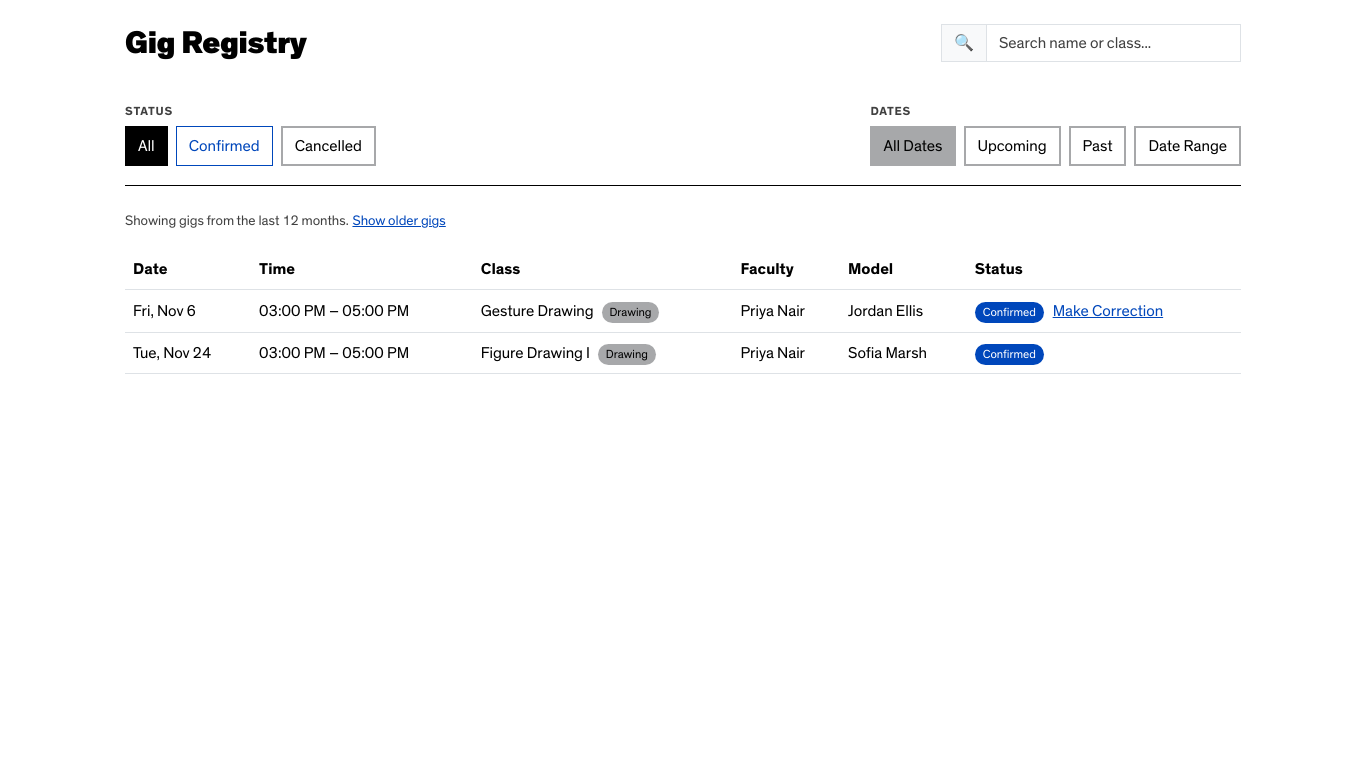
Test case: AllGigs (Gig Registry) › correcting a past gig › reloads the registry after a correction is saved
Click the button with aria-label "Make Correction for Jordan Ellis on " at (1108, 311), box [1052, 298, 1164, 324]
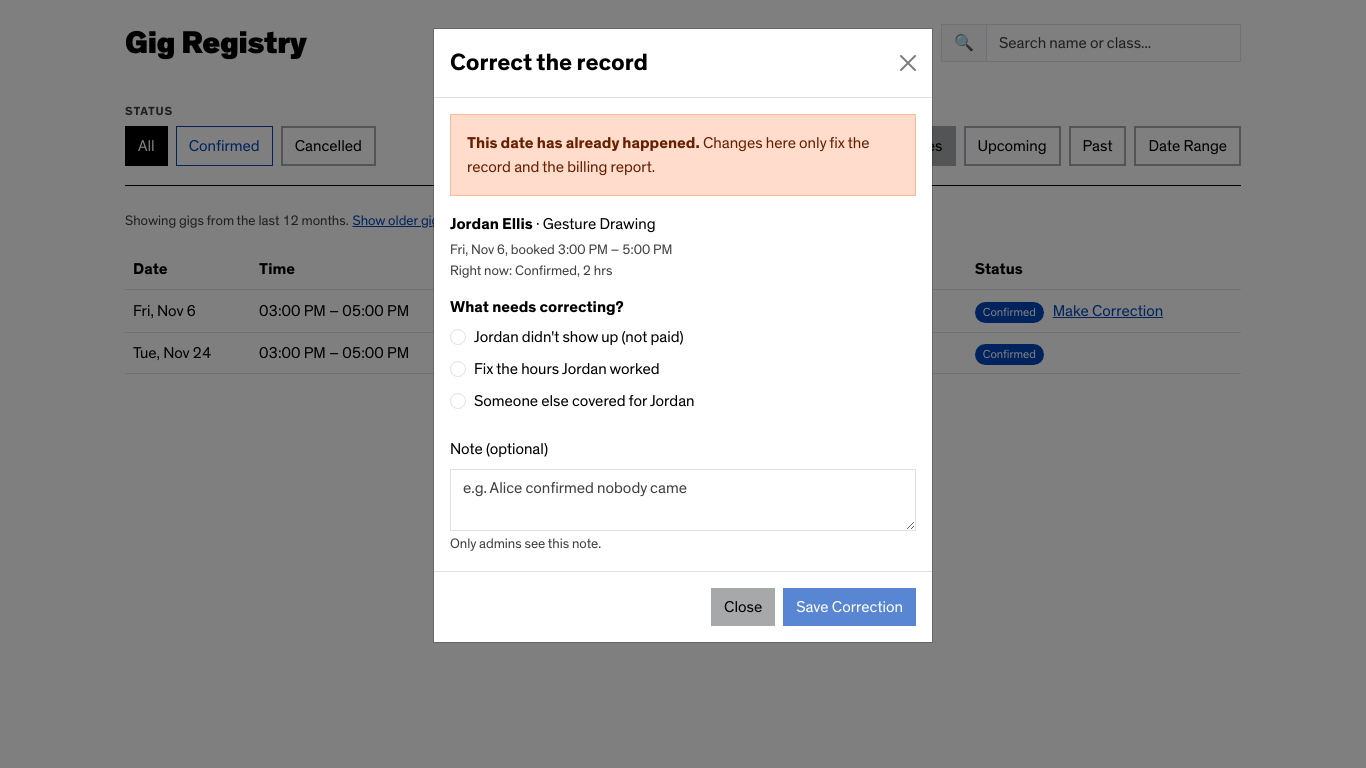
Click the radio button labelled "Jordan didn't show up (not paid)" at (458, 337), box [450, 329, 466, 345]
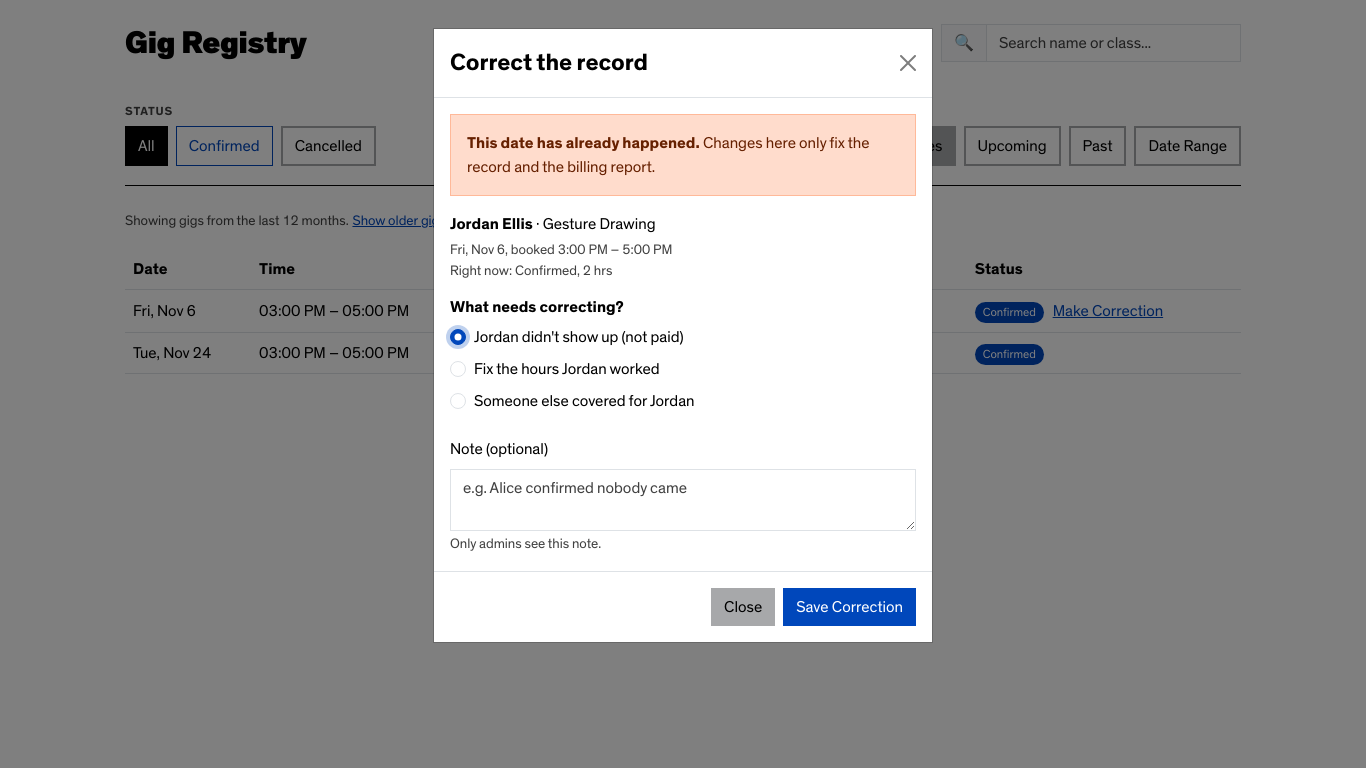
Click the button "Save Correction" at (850, 607), box [783, 588, 916, 626]
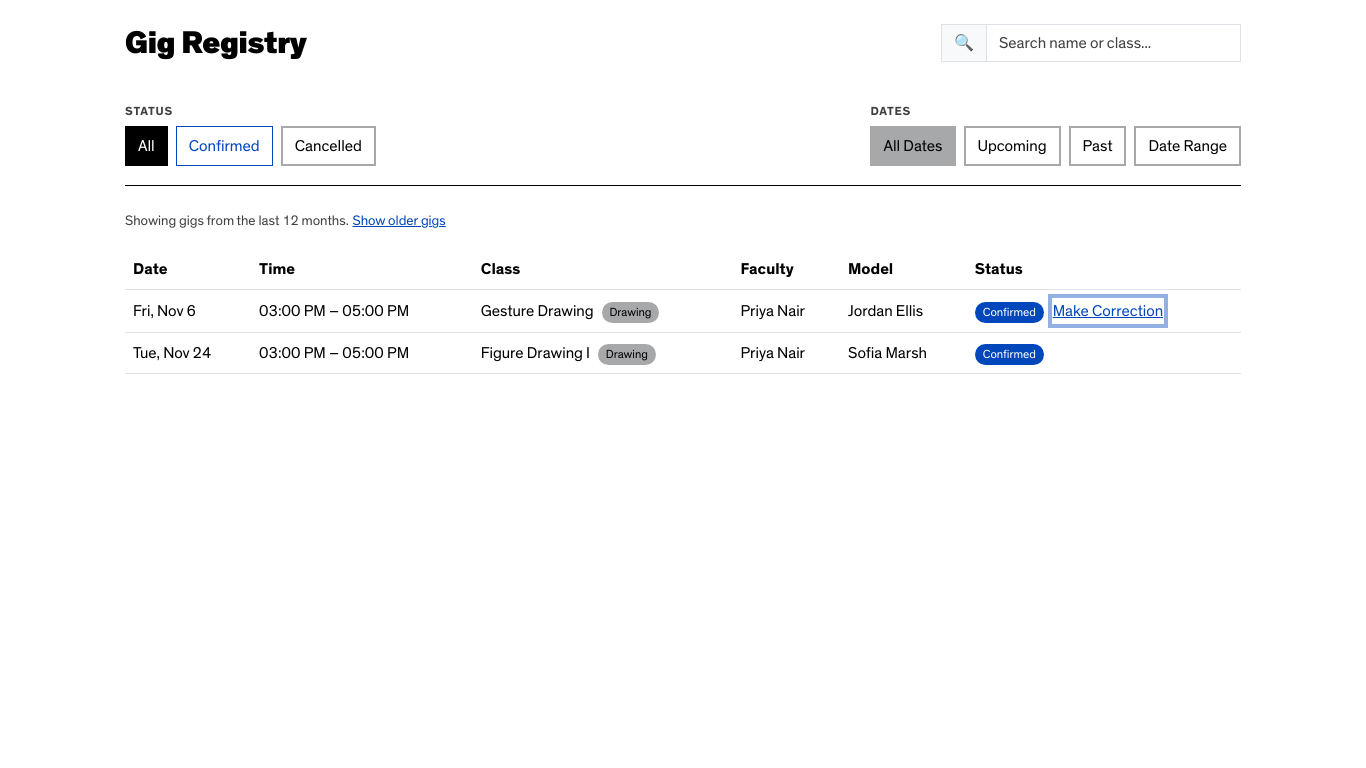
Expected: the dialog is gone
